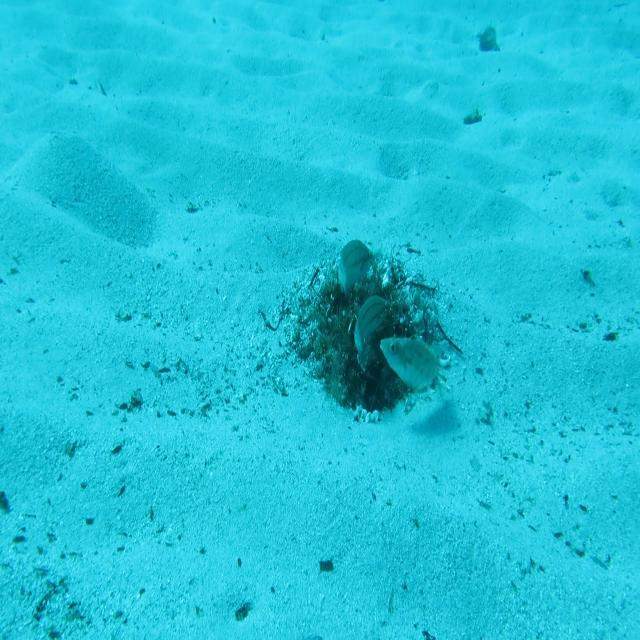BEND: (379, 332, 445, 399)
female: (353, 292, 393, 376), (338, 238, 375, 300)
nest: (282, 244, 454, 426)
vegetation: (476, 27, 501, 57), (460, 103, 483, 126), (318, 557, 334, 573)
